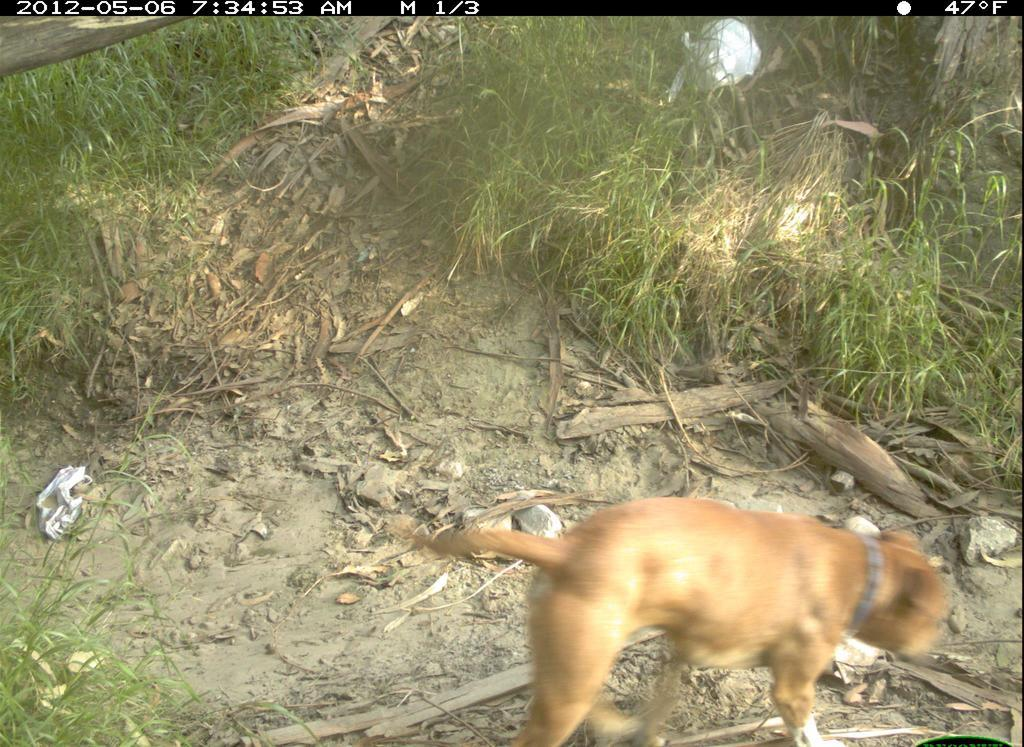dog: (385, 485, 955, 747)
